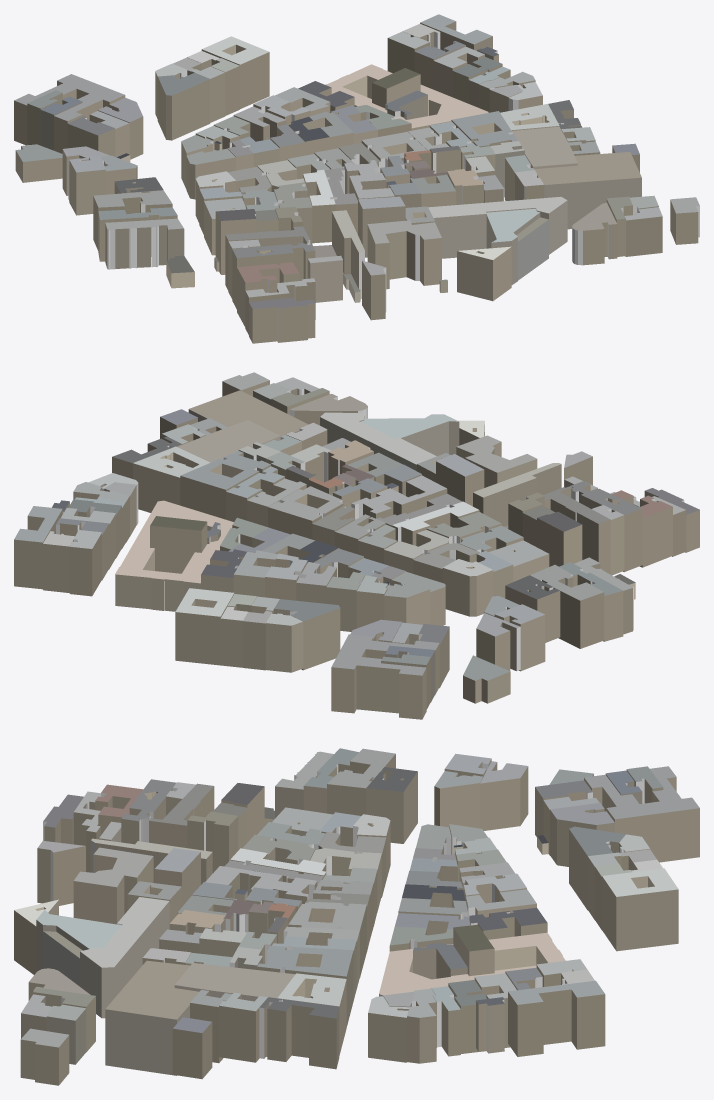
The picture shows the model from 3 angles, top to bottom: view 1: azimuth 30°, elevation 25°; view 2: azimuth 150°, elevation 25°; view 3: azimuth 270°, elevation 25°; orthographic projection. The views are drawn at different scales.
Visible parts, largest first — view 1: tuile; view 2: tuile; view 3: tuile.
Boxes of the visible parts, left/top/right/bottom form: tuile: left=14, top=14, right=699, bottom=343; tuile: left=14, top=372, right=699, bottom=719; tuile: left=14, top=748, right=699, bottom=1085.
Size of the model in its own units: 276 by 37.8 by 278.
